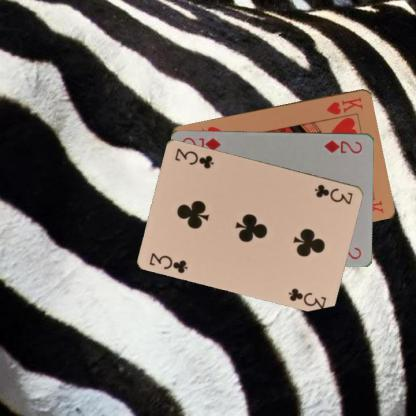2d: (322, 136, 363, 155)
3c: (312, 181, 355, 206), (146, 250, 190, 274)
Kh: (324, 94, 364, 116)
